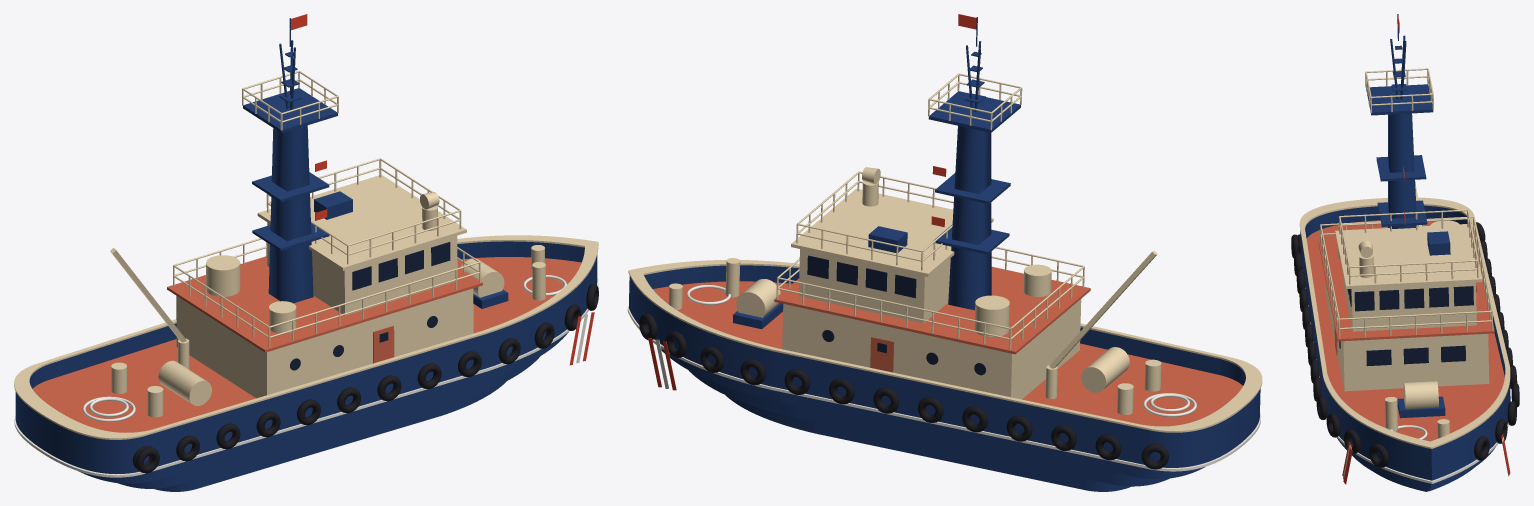
Rendered from tugboat.glb.
3 views of the same model, side by side, from view 1: azimuth 30°, elevation 25°; view 2: azimuth 150°, elevation 25°; view 3: azimuth 270°, elevation 25° (orthographic). The views are drawn at different scales.
Parts seen in each view (by area): view 1: hull, bulwark, deckhouse, deck, deckhouse_roof, bridge_roof, bulwark_cap, tower, bridge, crows_nest, boot_stripe, towing_winch (+9 smaller); view 2: hull, bulwark, deckhouse, deck, bridge_roof, deckhouse_roof, bulwark_cap, tower, bridge, boot_stripe, crows_nest, towing_winch (+8 smaller); view 3: deck, bridge_roof, deckhouse, bulwark, bulwark_cap, bridge, deckhouse_roof, hull, tower, crows_nest, anchor_winch, rail_bridge_roof_rail (×3) (+21 smaller).
Boxes of the visible parts, <box> form: hull: <box>15,265,597,491</box>; bulwark: <box>15,241,597,457</box>; deckhouse: <box>176,288,473,398</box>; deck: <box>32,257,581,432</box>; deckhouse_roof: <box>167,256,482,352</box>; bridge_roof: <box>257,174,466,270</box>; bulwark_cap: <box>14,235,598,439</box>; tower: <box>268,125,313,303</box>; bridge: <box>267,222,457,315</box>; crows_nest: <box>243,88,337,133</box>; boot_stripe: <box>14,278,598,477</box>; towing_winch: <box>158,360,211,405</box>; hull: <box>628,292,1260,491</box>; bulwark: <box>629,265,1260,451</box>; deckhouse: <box>782,299,1081,399</box>; deck: <box>653,281,1242,426</box>; bridge_roof: <box>791,188,993,276</box>; deckhouse_roof: <box>774,266,1090,354</box>; bulwark_cap: <box>628,260,1262,432</box>; tower: <box>948,126,991,310</box>; bridge: <box>798,249,950,323</box>; boot_stripe: <box>627,308,1261,471</box>; crows_nest: <box>928,91,1020,132</box>; towing_winch: <box>1081,347,1129,392</box>; deck: <box>1306,220,1504,441</box>; bridge_roof: <box>1335,224,1482,288</box>; deckhouse: <box>1326,282,1489,391</box>; bulwark: <box>1300,205,1510,465</box>; bulwark_cap: <box>1299,197,1510,448</box>; bridge: <box>1342,272,1476,331</box>; deckhouse_roof: <box>1318,236,1494,341</box>; hull: <box>1301,249,1510,491</box>; tower: <box>1388,113,1416,228</box>; crows_nest: <box>1366,84,1433,115</box>; anchor_winch: <box>1403,381,1438,409</box>; rail_bridge_roof_rail (×3): <box>1340,209,1477,276</box>.
Size of the model in its own units: 29.6 by 19.98 by 11.02.
